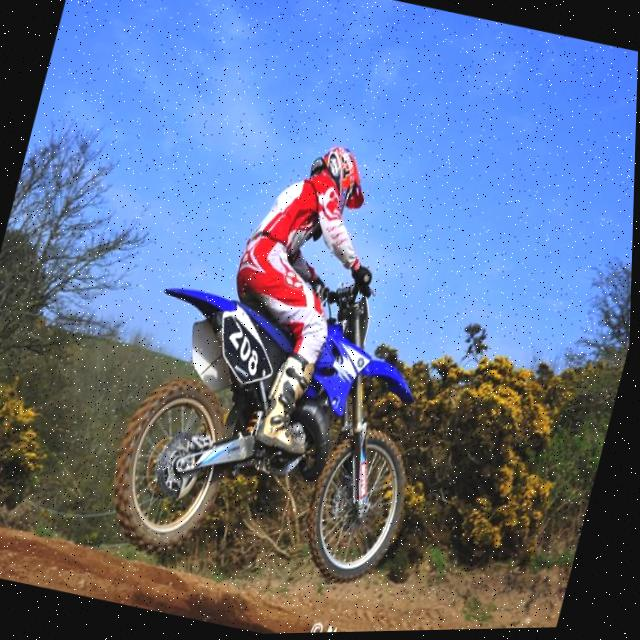motorcycle: (97, 231, 469, 604)
